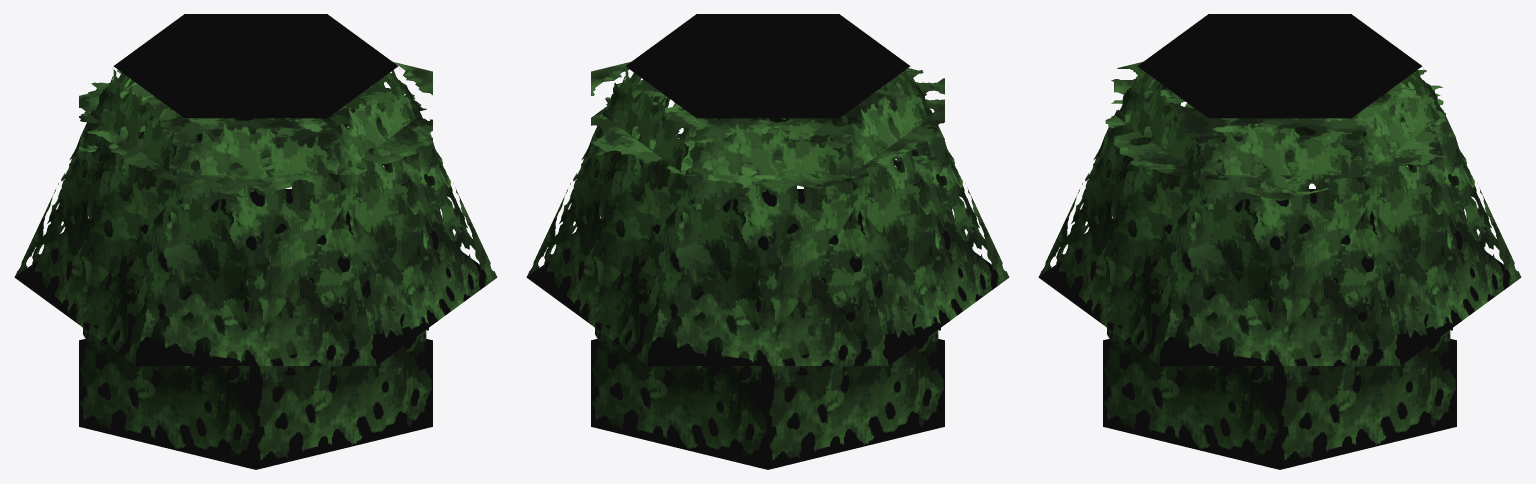
Rendered from bush2.obj.
3 renders of one model, left to right at view 1: azimuth 30°, elevation 25°; view 2: azimuth 150°, elevation 25°; view 3: azimuth 270°, elevation 25°, orthographic.
Parts seen in each view (by area): view 1: Object.2, Object.1; view 2: Object.2, Object.1; view 3: Object.2, Object.1.
Boxes of the visible parts, left/top/right/bottom form: Object.2: left=14, top=14, right=497, bottom=365; Object.1: left=79, top=62, right=432, bottom=469; Object.2: left=526, top=14, right=1009, bottom=365; Object.1: left=591, top=62, right=944, bottom=469; Object.2: left=1038, top=14, right=1521, bottom=365; Object.1: left=1103, top=62, right=1456, bottom=469.
Bounding box in the file's own units: 0.866 × 0.725 × 1.
